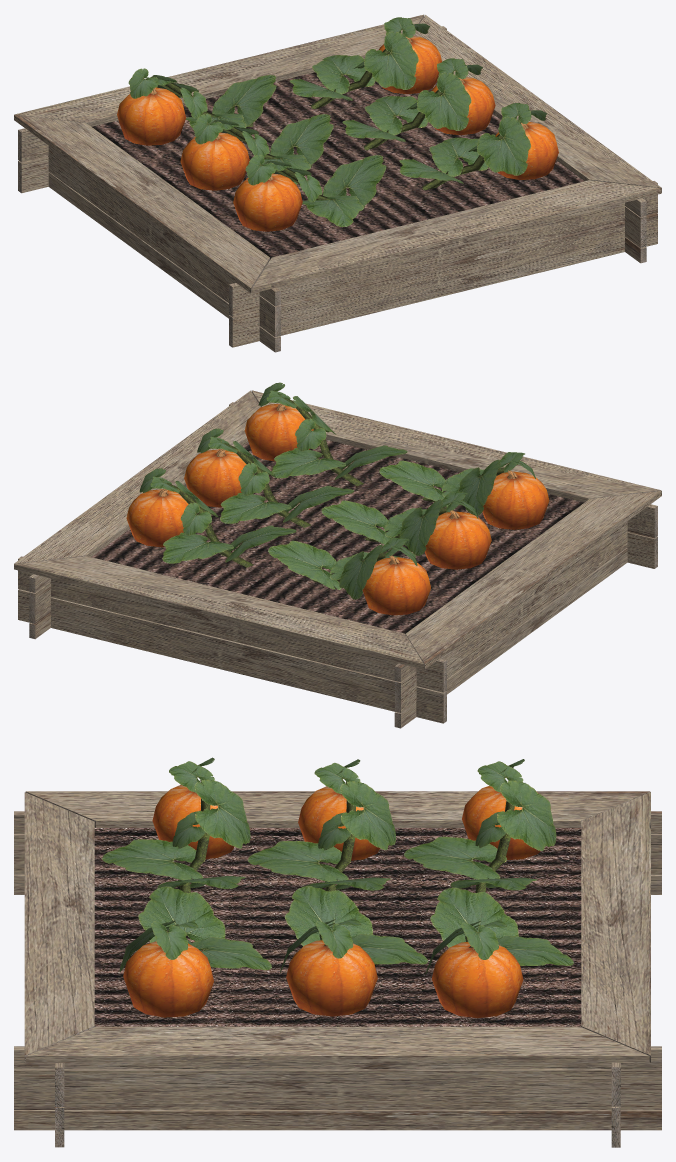
File: pumpkin-ripe.dae
3 views of the same model, one above another, from view 1: azimuth 30°, elevation 25°; view 2: azimuth 150°, elevation 25°; view 3: azimuth 270°, elevation 25° (orthographic). The views are drawn at different scales.
Parts seen in each view (by area): view 1: dirt, plank_06_Cube_009, top_3_Cube_021, top_2_Cube_022, PumpkinRipe_001_PumpkinRipe_009, plank_07_Cube_010, top_1_Cube_016, PumpkinRipe_003_PumpkinRipe_010, PumpkinRipe_005, top_4_Cube_023, PumpkinRipe_004_PumpkinRipe_011, PumpkinRipe_000_PumpkinRipe_006 (+6 smaller); view 2: dirt, plank_01_Cube_02, top_1_Cube_016, top_2_Cube_022, top_3_Cube_021, plank_02_Cube_03, top_4_Cube_023, PumpkinRipe_003_PumpkinRipe_010, PumpkinRipe_005, PumpkinRipe_002, PumpkinRipe_000_PumpkinRipe_006, PumpkinRipe_001_PumpkinRipe_009 (+6 smaller); view 3: dirt, plank_09_Cube_013, top_4_Cube_023, top_3_Cube_021, top_1_Cube_016, plank_08_Cube_011, PumpkinRipe_004_PumpkinRipe_011, PumpkinRipe_000_PumpkinRipe_006, PumpkinRipe_002, top_2_Cube_022, PumpkinRipe_001_PumpkinRipe_009, PumpkinRipe_005 (+3 smaller).
Part boxes in pixels (<box>): dirt: <box>92,72,583,259</box>; plank_06_Cube_009: <box>229,213,657,347</box>; top_3_Cube_021: <box>252,180,661,293</box>; top_2_Cube_022: <box>14,115,269,293</box>; PumpkinRipe_001_PumpkinRipe_009: <box>233,155,386,231</box>; plank_07_Cube_010: <box>229,181,657,316</box>; top_1_Cube_016: <box>14,14,424,126</box>; PumpkinRipe_003_PumpkinRipe_010: <box>180,113,333,190</box>; PumpkinRipe_005: <box>117,68,276,145</box>; top_4_Cube_023: <box>413,15,661,192</box>; PumpkinRipe_004_PumpkinRipe_011: <box>399,103,558,190</box>; PumpkinRipe_000_PumpkinRipe_006: <box>342,58,495,150</box>; dirt: <box>91,439,583,633</box>; plank_01_Cube_02: <box>18,589,446,723</box>; top_1_Cube_016: <box>14,556,424,669</box>; top_2_Cube_022: <box>405,490,661,669</box>; top_3_Cube_021: <box>251,390,661,502</box>; plank_02_Cube_03: <box>18,556,446,692</box>; top_4_Cube_023: <box>14,390,260,563</box>; PumpkinRipe_003_PumpkinRipe_010: <box>321,491,491,569</box>; PumpkinRipe_005: <box>268,537,430,615</box>; PumpkinRipe_002: <box>126,468,296,567</box>; PumpkinRipe_000_PumpkinRipe_006: <box>184,428,354,527</box>; PumpkinRipe_001_PumpkinRipe_009: <box>379,452,549,529</box>; dirt: <box>94,827,581,1026</box>; plank_09_Cube_013: <box>14,1069,661,1109</box>; top_4_Cube_023: <box>26,1026,649,1062</box>; top_3_Cube_021: <box>24,792,94,1062</box>; top_1_Cube_016: <box>581,792,650,1062</box>; plank_08_Cube_011: <box>14,1110,661,1130</box>; PumpkinRipe_004_PumpkinRipe_011: <box>119,886,271,1017</box>; PumpkinRipe_000_PumpkinRipe_006: <box>280,886,428,1016</box>; PumpkinRipe_002: <box>425,887,573,1017</box>; top_2_Cube_022: <box>25,791,650,827</box>; PumpkinRipe_001_PumpkinRipe_009: <box>102,757,250,892</box>; PumpkinRipe_005: <box>404,759,556,892</box>.
Bounding box in the file's own units: 3.68 × 3.68 × 1.07.
Materials: 4 (4 with a texture image).
